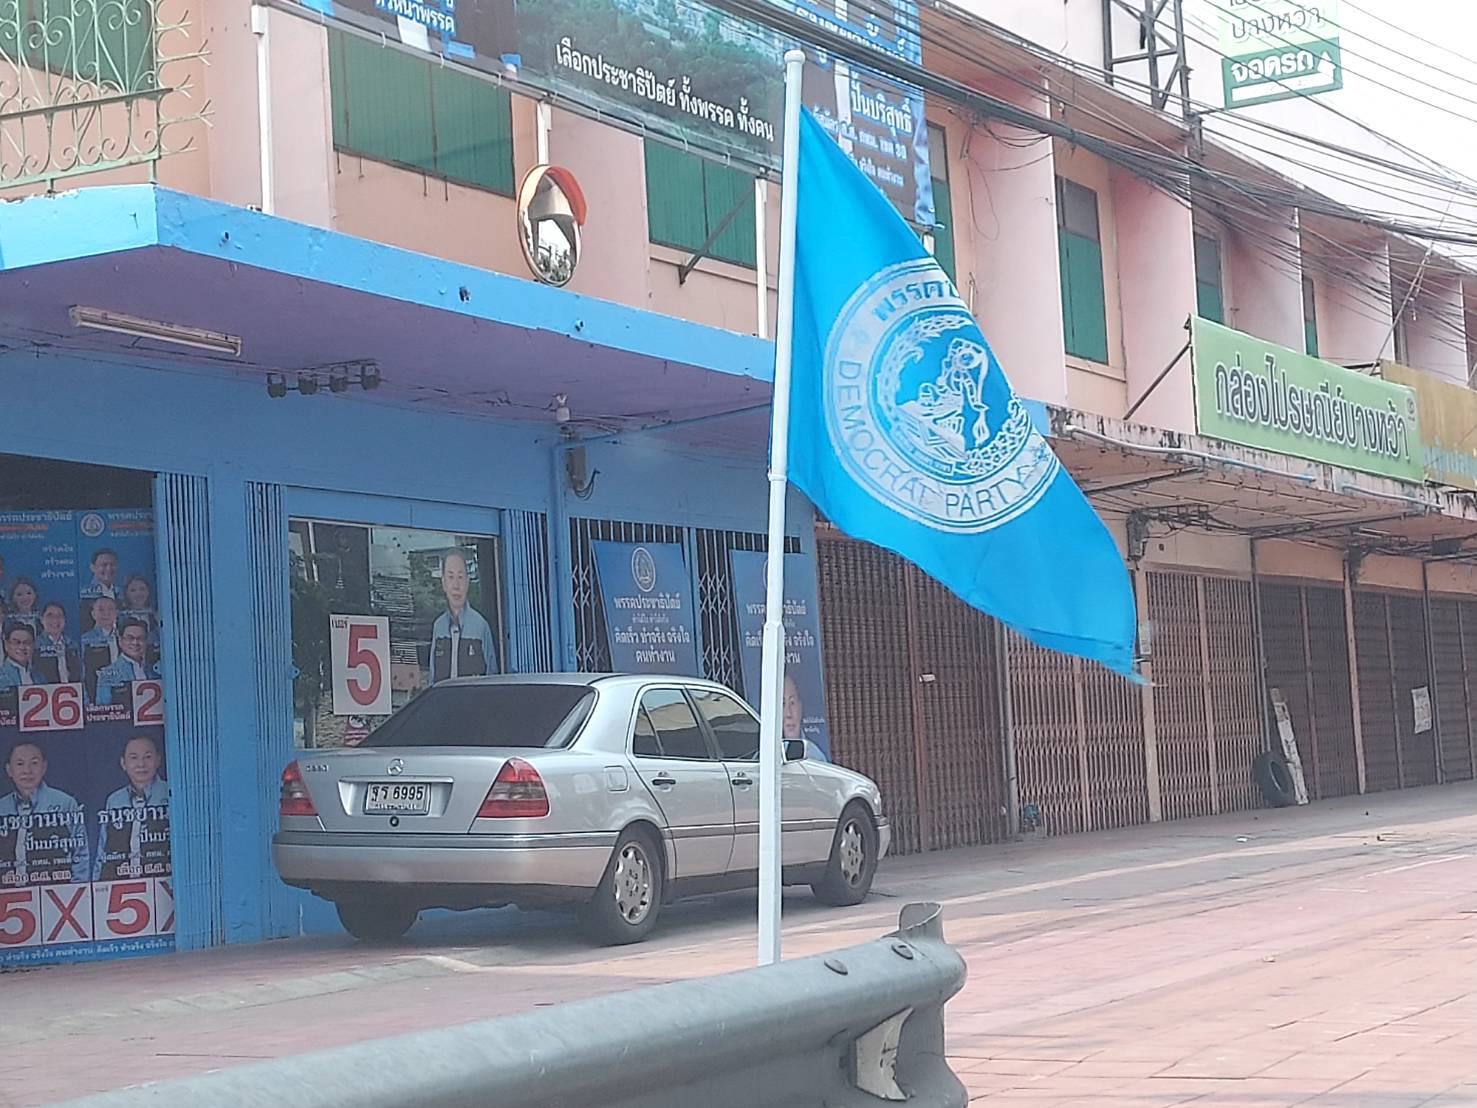Banner: (0, 506, 183, 952)
